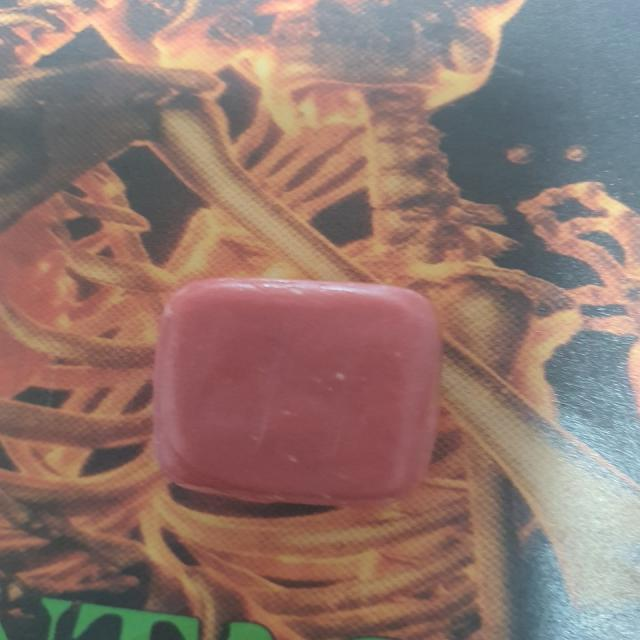pill: (125, 253, 463, 524)
